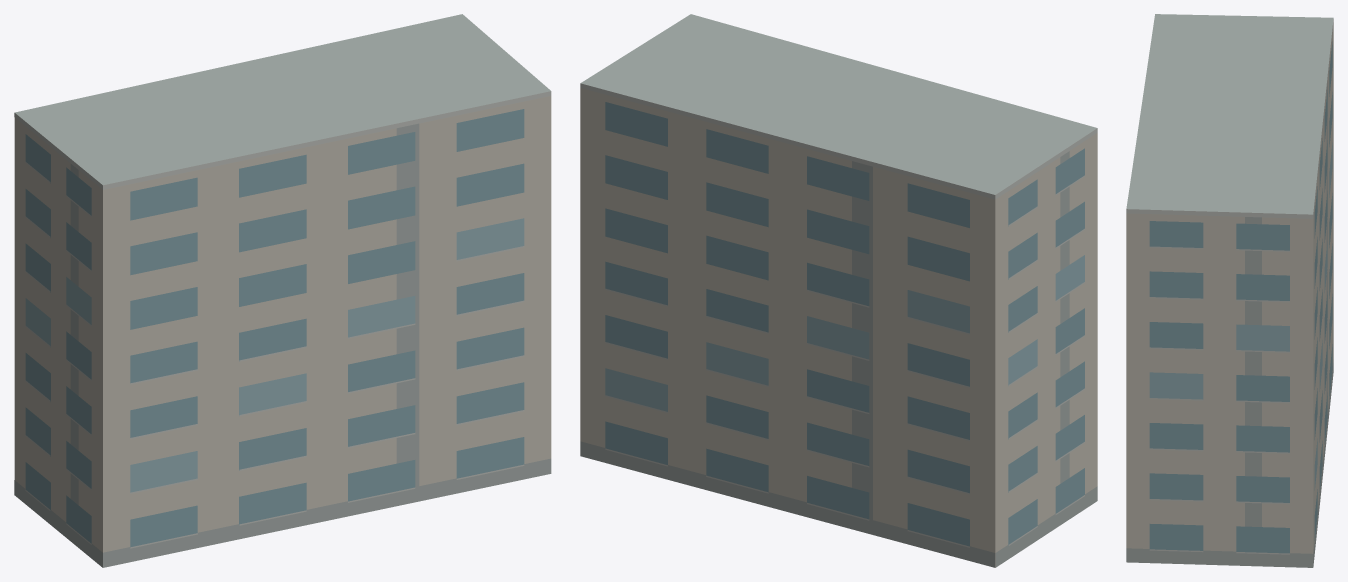
File: survey-upis-32996154.glb
3 renders of one model, left to right at view 1: azimuth 30°, elevation 25°; view 2: azimuth 150°, elevation 25°; view 3: azimuth 270°, elevation 25°, orthographic. The views are drawn at different scales.
Parts seen in each view (by area): view 1: survey-upis-32996154.tmp; view 2: survey-upis-32996154.tmp; view 3: survey-upis-32996154.tmp.
Part boxes in pixels (bbox=[...]): survey-upis-32996154.tmp: bbox=[14, 14, 551, 567]; survey-upis-32996154.tmp: bbox=[580, 14, 1097, 567]; survey-upis-32996154.tmp: bbox=[1126, 14, 1333, 567].
Size of the model in its own units: 24.36 by 20 by 10.65.
